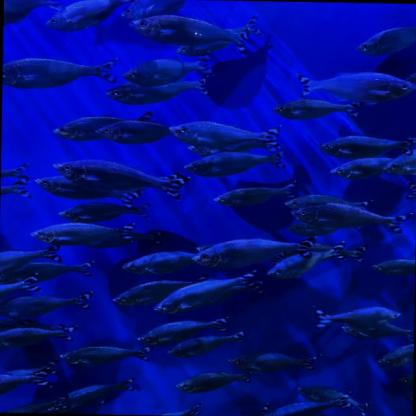fish: (131, 14, 265, 51), (2, 57, 115, 98), (160, 270, 262, 314), (197, 235, 314, 271), (59, 155, 174, 191), (302, 67, 415, 103), (28, 219, 159, 248), (48, 108, 151, 144), (127, 313, 231, 348), (182, 149, 284, 181), (0, 287, 92, 322), (292, 202, 415, 228), (156, 328, 250, 362), (0, 256, 93, 289), (31, 175, 133, 205), (40, 0, 132, 33), (103, 75, 206, 104), (263, 244, 345, 280), (175, 119, 277, 147), (349, 19, 415, 62), (60, 374, 135, 411), (222, 349, 319, 376), (125, 57, 216, 85), (315, 130, 413, 156), (66, 339, 147, 370), (115, 248, 198, 278), (109, 274, 180, 309), (274, 96, 361, 124), (0, 325, 67, 361), (168, 365, 245, 395), (302, 307, 396, 331), (48, 199, 145, 222), (0, 240, 59, 276), (104, 115, 172, 146), (214, 180, 292, 207), (330, 152, 399, 180), (294, 382, 365, 408), (280, 192, 365, 212), (0, 357, 47, 392), (375, 327, 413, 368), (3, 0, 48, 34), (124, 0, 200, 18), (252, 401, 332, 415), (368, 252, 414, 276), (0, 275, 34, 306), (115, 404, 200, 416), (1, 178, 42, 202), (384, 144, 416, 173), (0, 398, 57, 413), (1, 165, 35, 186), (399, 371, 412, 406), (406, 61, 416, 92), (406, 180, 416, 203)
